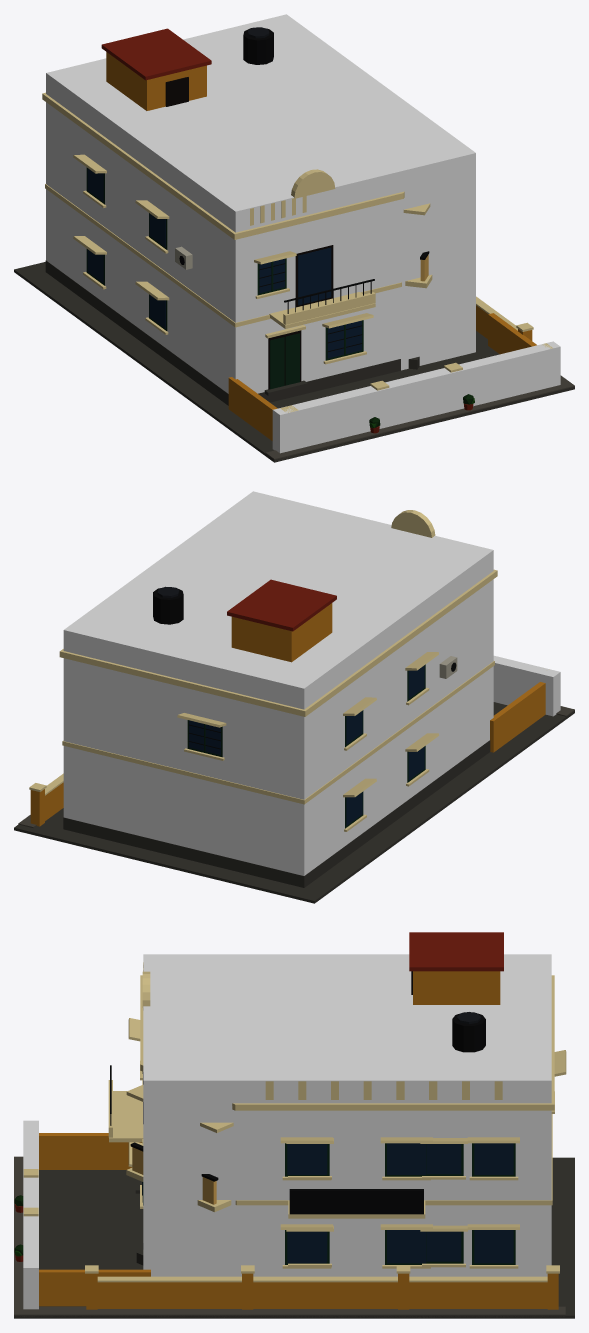
File: CHN_026_angled_corner.glb
3 renders of one model, top to bottom at view 1: azimuth 30°, elevation 25°; view 2: azimuth 150°, elevation 25°; view 3: azimuth 270°, elevation 25°, orthographic. The views are drawn at different scales.
Visible parts, largest first — view 1: COL_Main, LOD0, COL_Compound; view 2: COL_Main, LOD0, COL_Compound; view 3: COL_Main, LOD0, COL_Compound.
Boxes of the visible parts, x1=… form: COL_Main: x1=46, y1=14, x2=475, y2=393; LOD0: x1=14, y1=27, x2=574, y2=462; COL_Compound: x1=272, y1=341, x2=560, y2=453; COL_Main: x1=63, y1=491, x2=493, y2=875; LOD0: x1=14, y1=510, x2=574, y2=903; COL_Compound: x1=493, y1=655, x2=560, y2=716; COL_Main: x1=143, y1=954, x2=551, y2=1276; LOD0: x1=14, y1=932, x2=574, y2=1318; COL_Compound: x1=23, y1=1120, x2=38, y2=1309.
Size of what is drawn, in the model's own units: 12 by 9.09 by 18.
